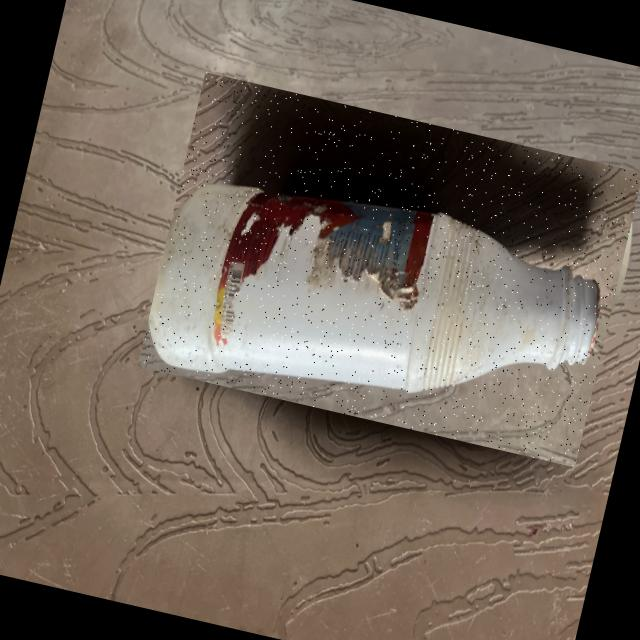REJECT: (137, 71, 640, 466)
